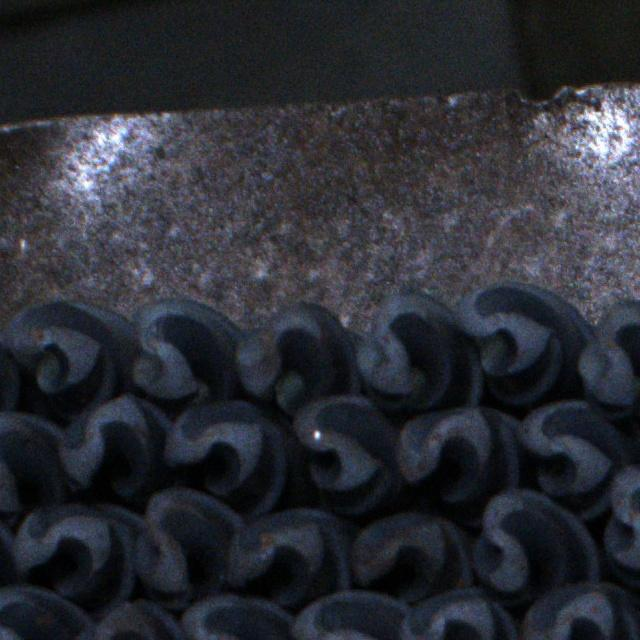tool_b: (456, 279, 597, 406), (163, 400, 309, 520), (4, 297, 140, 420), (346, 289, 482, 412), (397, 406, 524, 527), (470, 484, 597, 604), (14, 502, 143, 618), (235, 299, 365, 412), (518, 399, 640, 517), (292, 393, 405, 516), (131, 488, 244, 609), (56, 393, 184, 495), (130, 296, 245, 406), (226, 506, 355, 604), (352, 508, 474, 602), (0, 410, 72, 522), (578, 298, 640, 419), (399, 586, 520, 640), (289, 589, 413, 640)
